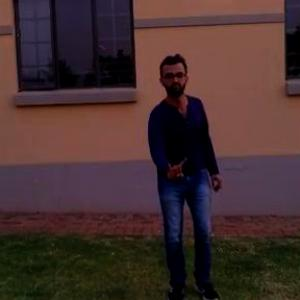takeoff-hand: (159, 151, 191, 185)
